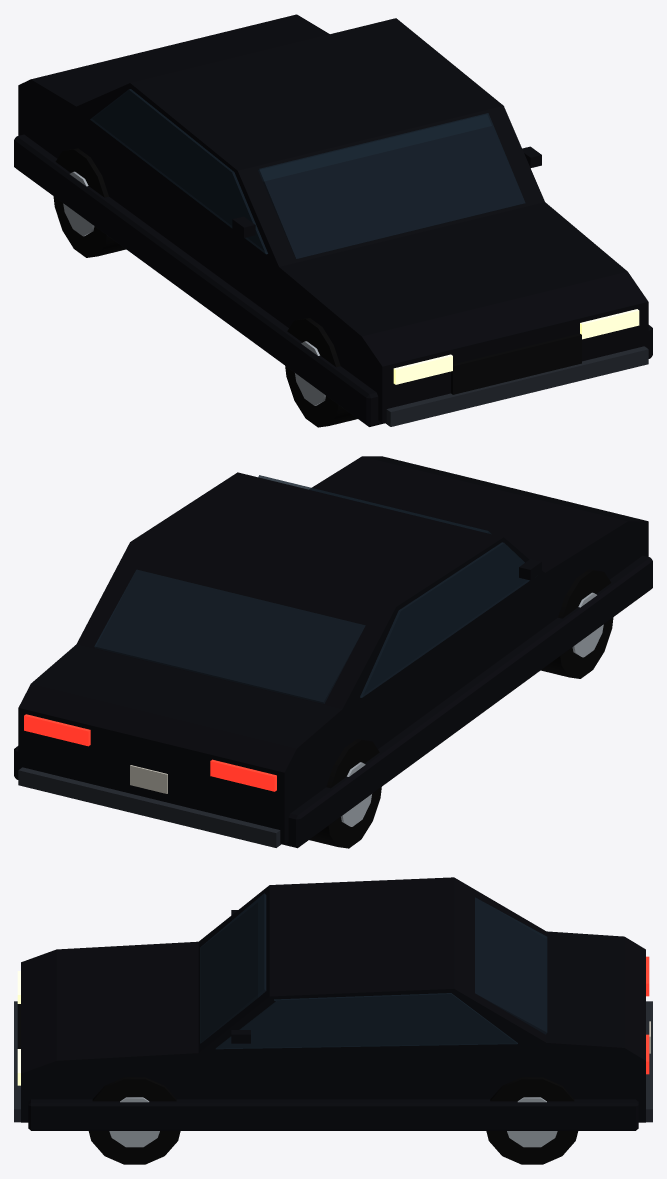
File: car_sedan.glb
The picture shows the model from 3 angles, top to bottom: view 1: azimuth 30°, elevation 25°; view 2: azimuth 150°, elevation 25°; view 3: azimuth 270°, elevation 25°; orthographic projection. The views are drawn at different scales.
Parts seen in each view (by area): view 1: car_sedan; view 2: car_sedan; view 3: car_sedan.
Boxes of the visible parts, x1,y1,x2,y2 form: car_sedan: (14,14,652,427); car_sedan: (14,456,652,848); car_sedan: (14,877,652,1164).
Size of the model in its own units: 2.08 by 1.35 by 4.5.
